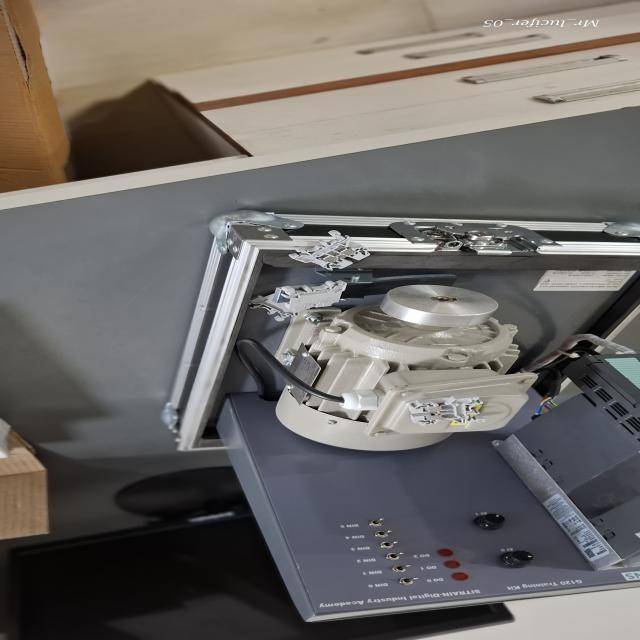Inverted: (279, 281, 348, 310)
Pass: (287, 228, 373, 272), (406, 394, 489, 424)
